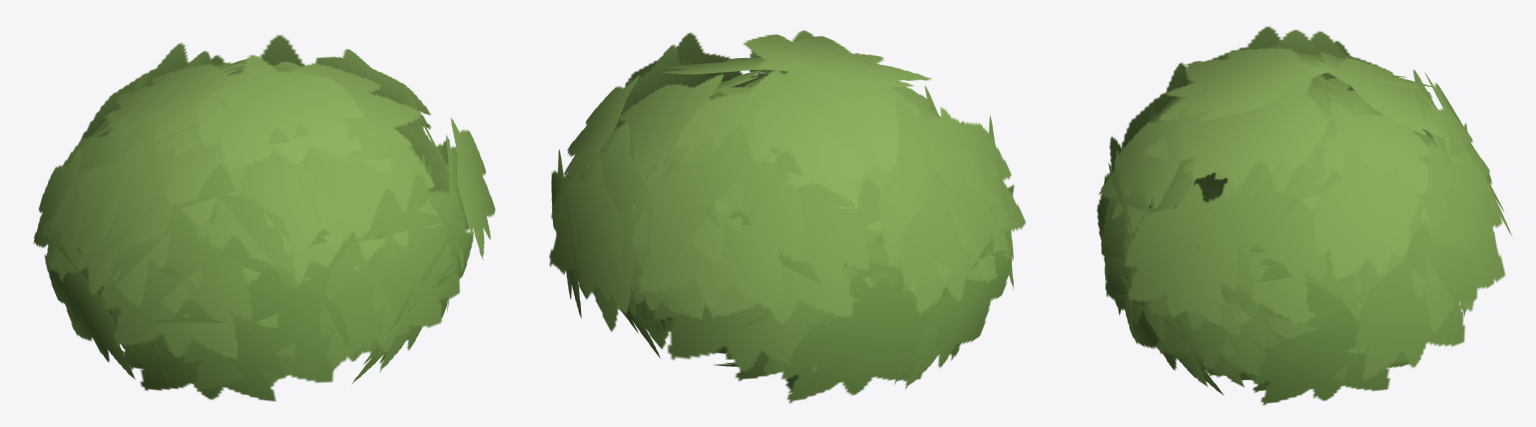
File: bush-29.glb
3 views of the same model, side by side, from view 1: azimuth 30°, elevation 25°; view 2: azimuth 150°, elevation 25°; view 3: azimuth 270°, elevation 25° (orthographic). The views are drawn at different scales.
Parts seen in each view (by area): view 1: soft bush; view 2: soft bush; view 3: soft bush.
Part boxes in pixels (x1,y1,x2,y2): soft bush: [33, 35, 495, 401]; soft bush: [549, 30, 1025, 403]; soft bush: [1097, 26, 1512, 405].
Size of the model in its own units: 1.81 by 1.19 by 1.64.
Materials: 1 (1 with a texture image).
